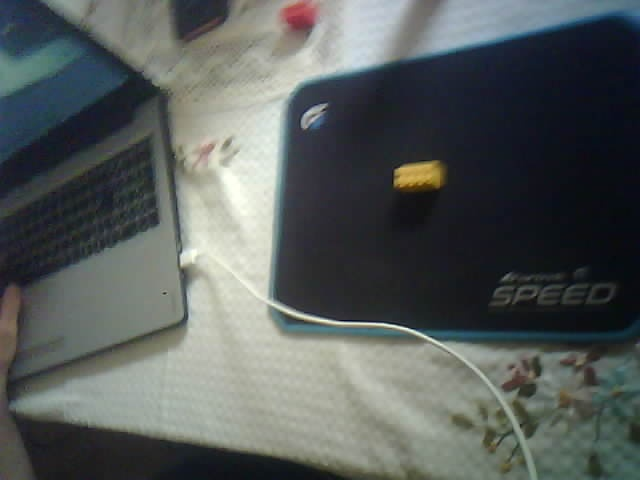lego: (390, 160, 446, 192), (278, 2, 319, 30)
